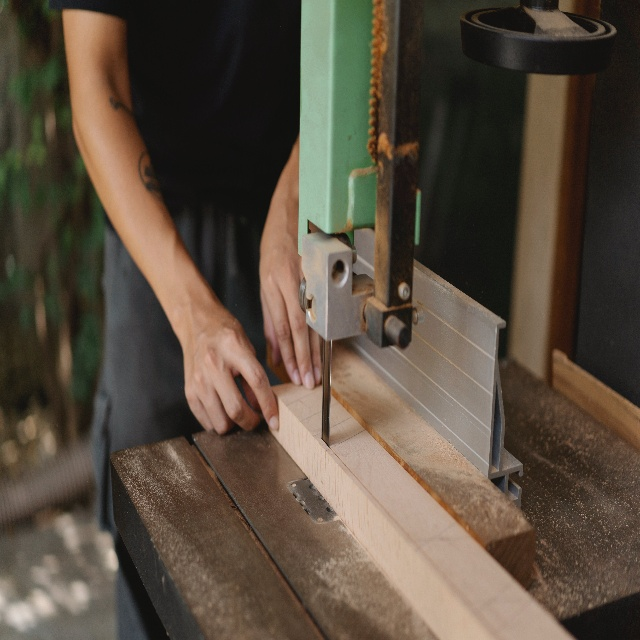Sin_guantes: (183, 300, 280, 435), (258, 212, 323, 391)
